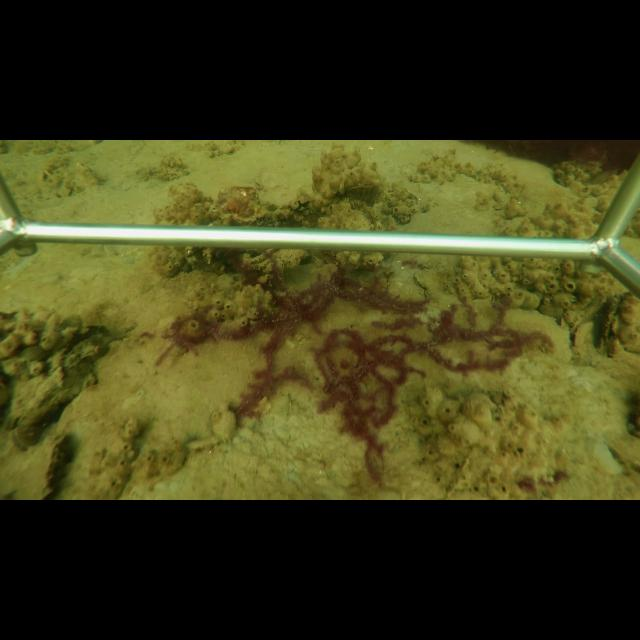Oyster-Closed: (412, 269, 444, 299)
